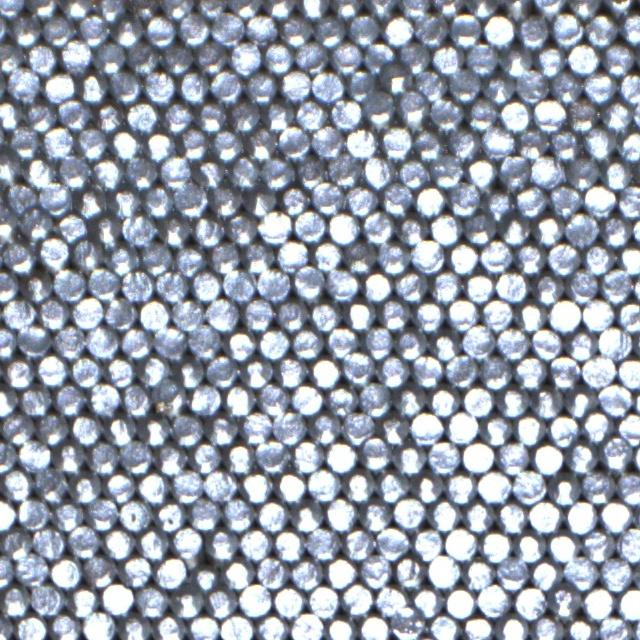tool: (581, 469, 615, 504), (546, 240, 580, 274), (240, 468, 274, 502), (444, 409, 478, 443), (66, 524, 100, 558), (8, 67, 42, 101), (394, 268, 428, 302), (482, 12, 516, 46), (65, 583, 99, 617), (512, 469, 546, 503), (238, 582, 272, 616), (142, 128, 176, 162), (176, 11, 210, 45), (496, 440, 530, 474), (257, 266, 291, 300), (583, 13, 617, 47), (478, 354, 512, 388), (342, 468, 376, 502), (205, 296, 239, 330), (411, 238, 445, 272), (194, 41, 228, 75), (254, 439, 288, 473), (203, 468, 237, 502), (210, 12, 244, 46), (16, 437, 50, 471), (530, 270, 564, 304), (188, 324, 222, 358), (153, 324, 187, 358), (477, 469, 511, 503), (34, 468, 68, 502), (429, 96, 463, 130), (152, 382, 187, 415), (293, 208, 326, 242), (443, 584, 476, 618), (582, 183, 616, 216), (60, 38, 93, 72), (599, 498, 632, 532), (188, 496, 221, 530), (292, 264, 325, 298), (241, 296, 274, 330), (16, 496, 50, 529), (228, 40, 262, 73), (342, 410, 375, 444), (306, 583, 339, 617), (495, 556, 529, 589), (177, 69, 210, 103), (547, 584, 581, 617), (104, 296, 138, 329), (597, 382, 631, 415), (206, 412, 239, 446), (565, 212, 598, 246), (328, 96, 362, 129), (359, 438, 392, 472), (445, 296, 478, 330), (100, 581, 134, 614), (567, 155, 600, 189), (513, 412, 546, 446), (221, 497, 254, 531), (126, 41, 160, 74), (341, 581, 374, 615), (36, 410, 69, 444), (8, 14, 42, 47), (394, 213, 428, 246), (528, 498, 561, 532), (598, 557, 632, 590), (154, 442, 187, 476), (53, 324, 86, 358), (42, 13, 76, 46), (446, 240, 479, 274), (86, 324, 119, 358), (32, 524, 65, 558), (245, 11, 278, 45), (379, 125, 413, 158), (414, 11, 448, 44), (272, 584, 306, 617), (496, 326, 530, 359), (294, 38, 328, 71), (344, 125, 378, 158), (119, 440, 152, 474), (462, 324, 495, 358), (324, 496, 357, 530), (601, 41, 634, 75), (547, 528, 580, 562), (170, 412, 203, 446), (272, 409, 305, 443), (275, 297, 308, 331), (358, 553, 392, 586), (223, 266, 256, 300), (431, 154, 464, 187), (567, 41, 600, 74), (466, 40, 499, 73), (211, 69, 244, 102), (344, 182, 377, 215), (381, 13, 414, 46), (517, 15, 550, 48), (360, 269, 393, 302), (141, 184, 174, 217), (244, 70, 277, 103), (91, 156, 124, 189), (307, 468, 340, 501), (189, 382, 222, 415), (565, 500, 598, 533), (444, 526, 477, 559), (103, 470, 136, 503), (160, 41, 193, 74), (290, 440, 323, 473), (444, 470, 477, 503), (393, 383, 426, 416), (3, 296, 36, 329), (310, 239, 343, 272), (38, 236, 71, 269), (241, 355, 274, 388), (361, 210, 394, 243), (31, 582, 64, 615), (3, 240, 36, 273), (77, 12, 110, 45), (25, 41, 58, 74), (580, 408, 613, 441), (447, 181, 480, 214), (363, 92, 396, 125), (209, 184, 242, 217), (1, 411, 34, 444), (87, 381, 120, 414), (583, 126, 616, 159), (359, 382, 392, 415), (396, 156, 429, 189), (240, 410, 273, 443), (531, 213, 564, 246), (291, 500, 324, 533), (15, 552, 48, 585), (306, 526, 339, 559), (276, 125, 309, 158), (547, 355, 580, 388), (497, 154, 530, 187), (260, 155, 293, 188), (238, 527, 271, 560), (158, 214, 191, 247), (533, 98, 566, 131), (111, 15, 144, 48), (171, 298, 204, 331), (174, 183, 207, 216), (205, 527, 238, 560), (275, 238, 308, 271), (211, 128, 244, 161), (19, 383, 52, 416), (170, 469, 203, 502), (516, 127, 549, 160), (376, 354, 409, 387), (477, 583, 510, 616), (426, 440, 459, 473), (361, 325, 394, 358), (599, 437, 632, 470), (121, 268, 154, 301), (324, 555, 357, 588), (324, 439, 357, 472), (375, 526, 408, 559), (170, 585, 203, 618), (325, 325, 358, 358), (376, 241, 409, 274), (501, 45, 534, 78), (83, 554, 116, 587), (223, 327, 256, 360), (223, 382, 256, 415), (428, 329, 461, 362), (42, 71, 76, 103), (567, 268, 599, 302), (155, 269, 189, 301), (342, 527, 376, 559), (397, 90, 429, 124), (255, 498, 289, 530), (444, 354, 478, 386), (514, 354, 546, 388), (480, 296, 512, 330), (88, 266, 120, 300), (308, 299, 342, 331), (123, 212, 157, 244), (378, 296, 410, 330), (348, 12, 380, 46), (548, 183, 582, 215), (126, 98, 158, 132), (228, 98, 260, 132), (394, 554, 426, 588), (466, 96, 498, 130), (137, 354, 171, 386), (580, 353, 614, 385), (376, 585, 410, 617), (551, 12, 583, 46), (427, 382, 459, 416), (393, 495, 425, 528), (380, 180, 412, 213), (142, 70, 175, 102), (582, 586, 615, 618), (190, 268, 222, 301), (86, 497, 119, 529), (291, 382, 324, 414), (137, 470, 170, 502), (190, 441, 222, 474), (53, 382, 86, 414), (515, 184, 547, 217), (495, 269, 528, 301), (411, 411, 443, 444), (3, 355, 35, 388), (496, 385, 529, 417), (279, 67, 311, 100), (462, 440, 494, 473), (110, 69, 142, 102), (118, 497, 151, 529), (262, 40, 294, 73), (516, 69, 548, 102), (53, 442, 86, 474), (514, 585, 546, 618), (531, 154, 564, 186), (136, 584, 168, 617), (547, 299, 580, 331), (313, 14, 346, 46), (207, 354, 240, 386), (431, 42, 464, 74), (75, 126, 108, 158), (429, 269, 461, 302), (359, 499, 392, 531), (584, 69, 616, 102), (411, 584, 443, 617), (394, 442, 426, 475), (582, 297, 614, 330), (71, 296, 103, 329), (176, 127, 209, 159), (88, 441, 120, 474), (362, 154, 394, 187), (598, 325, 631, 357), (414, 183, 446, 216), (462, 500, 495, 532), (244, 128, 277, 160), (58, 154, 91, 186), (448, 68, 481, 100), (290, 556, 323, 588), (279, 14, 312, 46), (193, 156, 226, 188), (0, 468, 33, 500), (600, 268, 632, 301), (53, 268, 86, 300), (582, 242, 614, 275), (42, 125, 74, 158), (446, 127, 479, 159), (102, 526, 135, 558), (204, 586, 237, 618), (137, 527, 170, 559), (257, 382, 290, 414), (308, 412, 341, 444), (191, 213, 224, 245), (412, 299, 445, 331), (312, 181, 344, 214), (341, 352, 374, 384), (139, 414, 171, 447), (170, 525, 202, 558), (70, 354, 102, 387), (255, 555, 288, 587), (124, 155, 157, 187), (76, 70, 108, 103), (582, 530, 615, 562), (208, 241, 241, 273), (411, 353, 443, 386), (481, 126, 514, 158), (245, 185, 278, 217), (141, 243, 174, 275), (463, 213, 496, 245), (272, 528, 305, 560), (482, 72, 515, 104), (194, 99, 226, 132), (564, 555, 596, 588), (74, 185, 107, 217), (36, 352, 68, 385), (566, 98, 599, 130), (119, 554, 152, 586), (59, 96, 91, 129), (499, 98, 532, 130), (257, 326, 290, 358), (549, 472, 581, 505), (225, 212, 258, 244), (449, 13, 481, 46), (427, 554, 459, 587), (514, 530, 546, 563), (414, 128, 446, 161), (344, 69, 377, 101), (274, 354, 307, 386), (92, 100, 125, 132), (394, 328, 427, 360), (377, 469, 409, 502), (21, 208, 54, 240), (380, 61, 413, 93), (22, 269, 54, 302), (174, 243, 206, 276), (241, 243, 275, 274), (531, 442, 563, 474), (40, 181, 72, 213), (37, 296, 69, 328), (480, 240, 512, 272), (547, 414, 579, 446), (259, 210, 291, 242), (530, 386, 562, 418), (138, 298, 170, 330), (496, 500, 528, 532), (327, 211, 359, 243), (227, 155, 259, 187), (56, 210, 88, 242), (565, 442, 597, 474), (144, 14, 176, 46), (378, 413, 410, 445), (463, 270, 495, 302), (429, 212, 461, 244), (464, 155, 496, 187), (221, 557, 253, 589), (312, 69, 344, 101), (154, 556, 186, 588), (309, 355, 341, 387), (295, 98, 327, 130), (154, 498, 186, 530), (90, 214, 122, 246), (480, 413, 512, 445), (416, 68, 448, 100), (462, 384, 494, 416), (345, 298, 377, 330), (534, 43, 566, 75), (52, 499, 84, 531), (550, 71, 582, 103), (24, 155, 56, 187), (462, 556, 494, 588), (291, 326, 323, 358), (7, 181, 39, 213), (109, 186, 141, 218), (411, 527, 443, 559), (160, 155, 192, 187), (564, 386, 596, 418), (18, 324, 50, 356), (344, 241, 376, 273), (428, 498, 460, 530), (529, 557, 561, 589), (600, 158, 632, 190), (412, 470, 444, 502), (515, 300, 547, 332), (120, 326, 152, 358), (480, 529, 512, 561), (327, 153, 359, 185), (70, 412, 102, 444), (326, 268, 358, 300), (530, 328, 562, 360), (49, 555, 81, 587), (70, 472, 102, 504), (295, 155, 327, 187), (120, 384, 152, 416), (188, 560, 220, 592), (311, 124, 343, 156), (274, 470, 306, 502), (550, 128, 582, 160), (160, 100, 192, 132), (24, 100, 56, 132), (223, 442, 255, 474), (564, 328, 596, 360), (174, 355, 206, 387), (326, 383, 358, 415), (72, 238, 104, 270), (601, 100, 633, 132), (391, 609, 424, 640), (481, 188, 514, 219), (600, 214, 631, 247), (0, 526, 31, 559), (398, 40, 431, 71), (7, 125, 40, 156), (515, 242, 546, 274), (330, 41, 362, 72), (105, 354, 136, 386), (110, 128, 142, 159), (94, 41, 125, 73), (107, 244, 139, 275), (105, 414, 136, 446), (501, 215, 532, 247), (364, 39, 396, 70), (262, 99, 294, 130), (82, 610, 115, 640), (278, 184, 309, 215), (0, 584, 30, 616), (290, 612, 323, 640), (14, 612, 46, 640), (220, 612, 252, 640), (427, 612, 459, 640), (48, 612, 80, 640), (152, 613, 185, 640), (358, 613, 390, 640), (256, 613, 288, 640), (188, 613, 220, 640), (461, 614, 494, 640), (118, 614, 150, 640), (0, 40, 25, 73), (599, 615, 632, 640), (324, 615, 357, 640), (496, 615, 528, 640), (530, 615, 562, 640), (565, 615, 597, 640), (616, 411, 640, 444), (617, 470, 640, 504), (617, 354, 640, 388), (616, 243, 640, 275), (0, 98, 24, 130), (617, 184, 640, 217), (617, 528, 640, 561), (618, 586, 640, 620), (617, 299, 640, 331), (617, 128, 640, 160), (618, 70, 640, 103), (619, 11, 640, 44), (0, 268, 20, 302), (0, 150, 21, 182), (61, 0, 94, 20), (94, 0, 126, 20), (466, 0, 498, 20), (0, 384, 19, 417), (125, 0, 158, 19), (262, 0, 296, 18), (0, 211, 19, 243), (160, 0, 192, 19), (330, 0, 362, 19), (398, 0, 431, 18), (227, 0, 261, 17), (0, 324, 17, 358), (568, 0, 600, 18), (25, 0, 58, 17), (297, 0, 328, 18), (0, 440, 16, 472), (499, 0, 533, 15), (431, 0, 464, 15), (0, 498, 15, 530), (364, 0, 396, 15), (195, 0, 227, 15), (532, 0, 566, 14), (0, 554, 14, 586)
